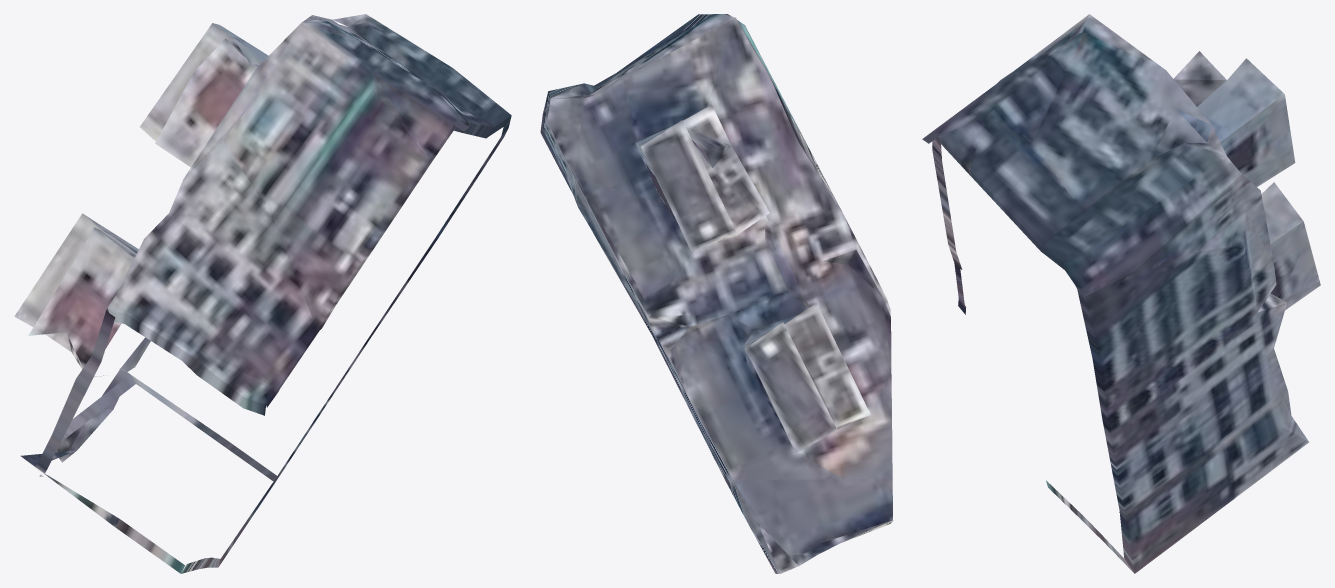
3 views of the same model, side by side, from view 1: azimuth 30°, elevation 25°; view 2: azimuth 150°, elevation 25°; view 3: azimuth 270°, elevation 25° (orthographic). The views are drawn at different scales.
Bounding box in the file's own units: 38.77 × 47.42 × 28.91.
1 material, 1 textured.
